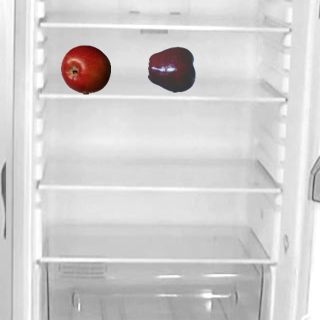Apple Braeburn: (60, 44, 110, 94)
Apple Red Delicious: (147, 44, 197, 94)
